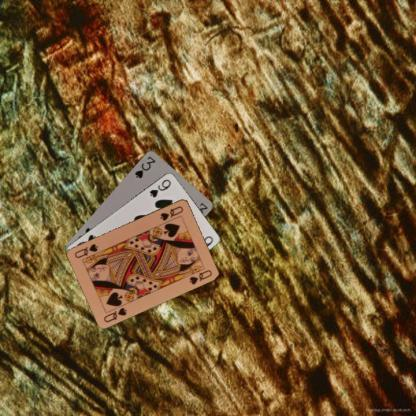3s: (132, 153, 157, 180)
9s: (147, 176, 172, 199)
Qs: (101, 304, 128, 324), (158, 203, 184, 222)
